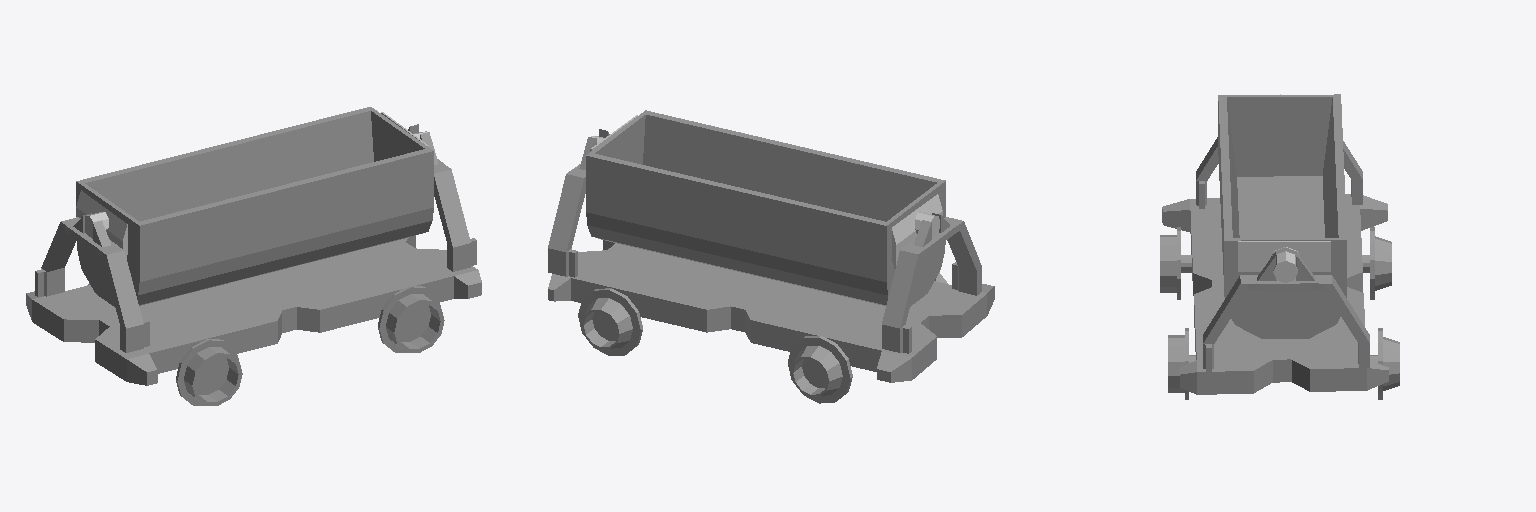
File: Trolley.obj
3 renders of one model, left to right at view 1: azimuth 30°, elevation 25°; view 2: azimuth 150°, elevation 25°; view 3: azimuth 270°, elevation 25°, orthographic.
Visible parts, largest first — view 1: Cube.008_Cube.032, Cube.010_Cube.003; view 2: Cube.008_Cube.032, Cube.010_Cube.003; view 3: Cube.008_Cube.032, Cube.010_Cube.003, Cylinder.001_Cylinder.
Boxes of the visible parts, x1=… form: Cube.008_Cube.032: x1=26, y1=107, x2=481, y2=405; Cube.010_Cube.003: x1=76, y1=112, x2=428, y2=257; Cube.008_Cube.032: x1=548, y1=110, x2=994, y2=403; Cube.010_Cube.003: x1=590, y1=115, x2=942, y2=268; Cube.008_Cube.032: x1=1160, y1=94, x2=1399, y2=399; Cube.010_Cube.003: x1=1238, y1=241, x2=1330, y2=271; Cylinder.001_Cylinder: x1=1270, y1=247, x2=1298, y2=282.
Bounding box in the file's own units: 6.75 × 3.11 × 3.82.